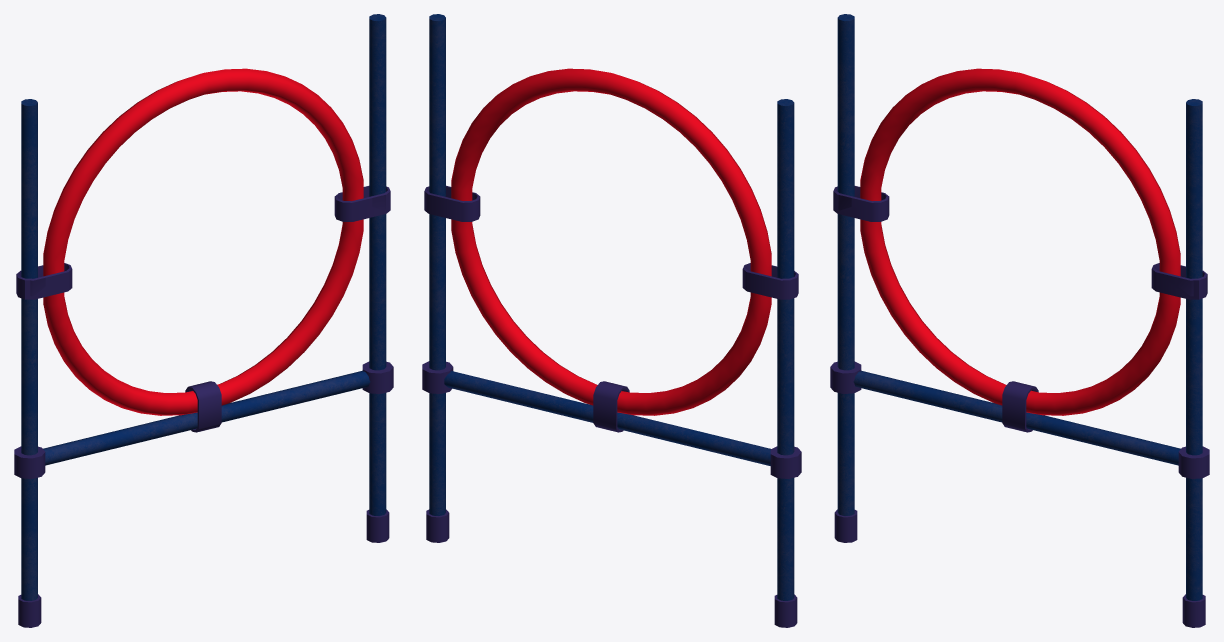
3 renders of one model, left to right at view 1: azimuth 30°, elevation 25°; view 2: azimuth 150°, elevation 25°; view 3: azimuth 330°, elevation 25°, orthographic.
Visible parts, largest first — view 1: circle01; view 2: circle01; view 3: circle01.
Part boxes in pixels (bbox=[...]): circle01: bbox=[14, 14, 393, 627]; circle01: bbox=[422, 14, 801, 627]; circle01: bbox=[830, 14, 1209, 627].
Size of the model in its own units: 90.96 by 120 by 6.46.
